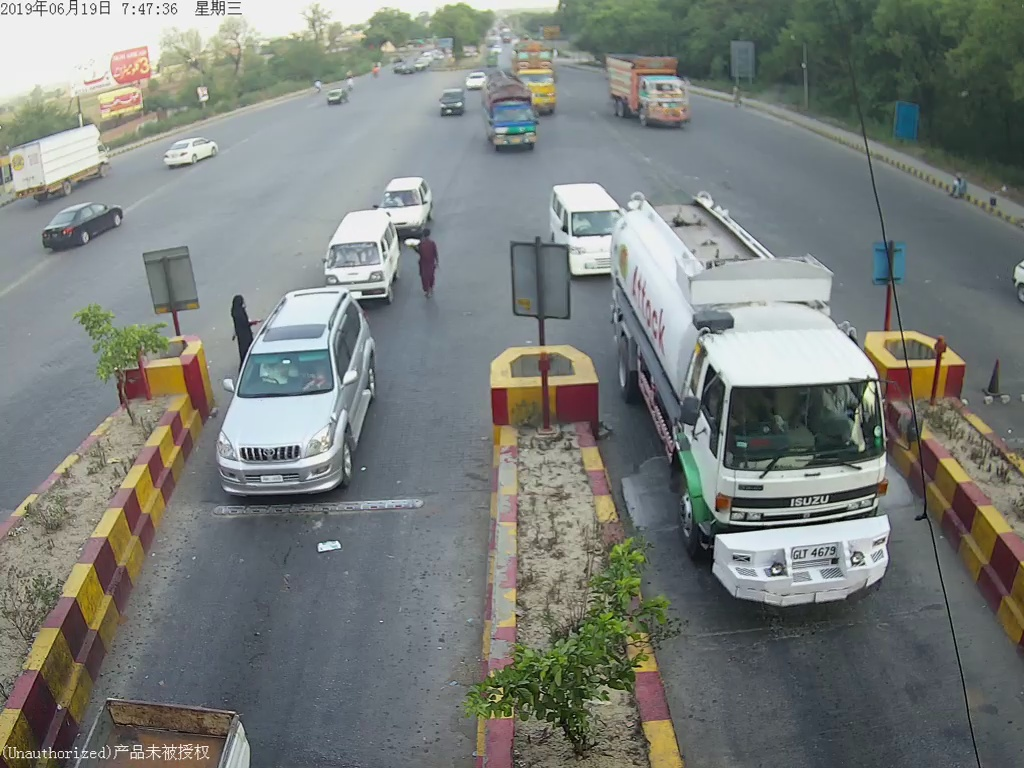Cat-1: (212, 283, 380, 498), (546, 173, 623, 279), (318, 209, 402, 305), (379, 172, 438, 236)
Cat-2: (478, 72, 540, 149)
Cat-4: (615, 189, 901, 604), (602, 51, 697, 131), (523, 44, 567, 111)
